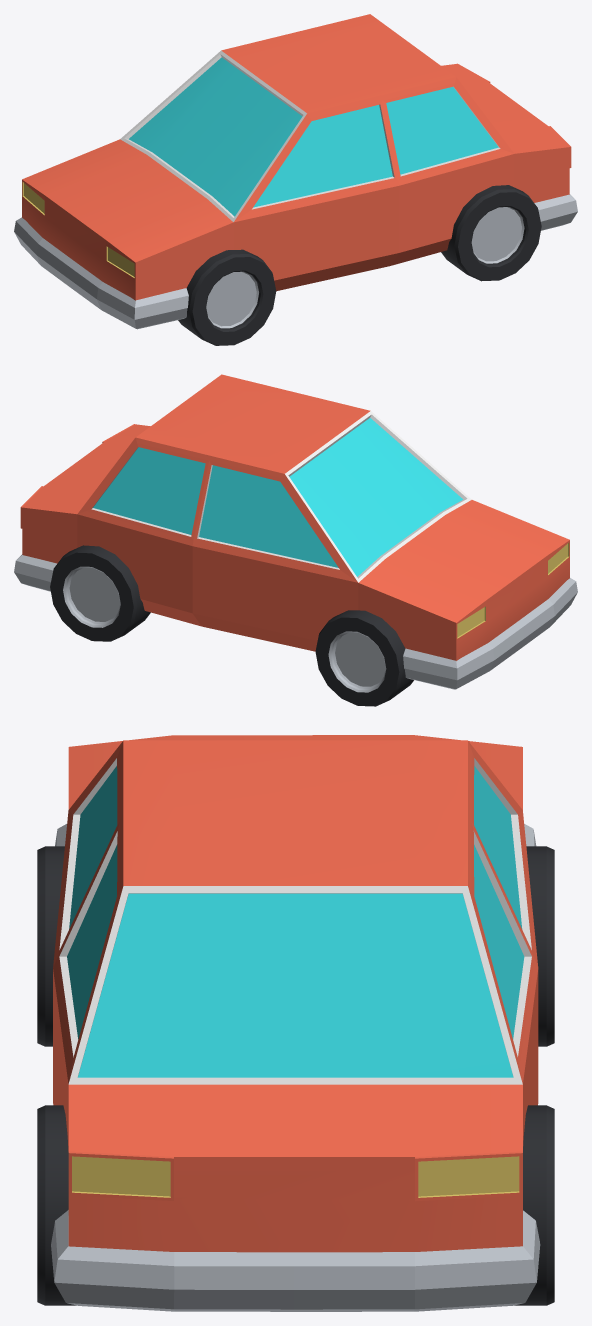
Rendered from car_normal_3.fbx.
3 renders of one model, top to bottom at view 1: azimuth 30°, elevation 25°; view 2: azimuth 150°, elevation 25°; view 3: azimuth 270°, elevation 25°, orthographic. The views are drawn at different scales.
Parts seen in each view (by area): view 1: car_normal; view 2: car_normal; view 3: car_normal.
Part boxes in pixels (bbox=[...]): car_normal: bbox=[14, 14, 577, 345]; car_normal: bbox=[14, 374, 577, 706]; car_normal: bbox=[37, 735, 554, 1311].
Bounding box in the file's own units: 6.93 × 2.83 × 3.39.
